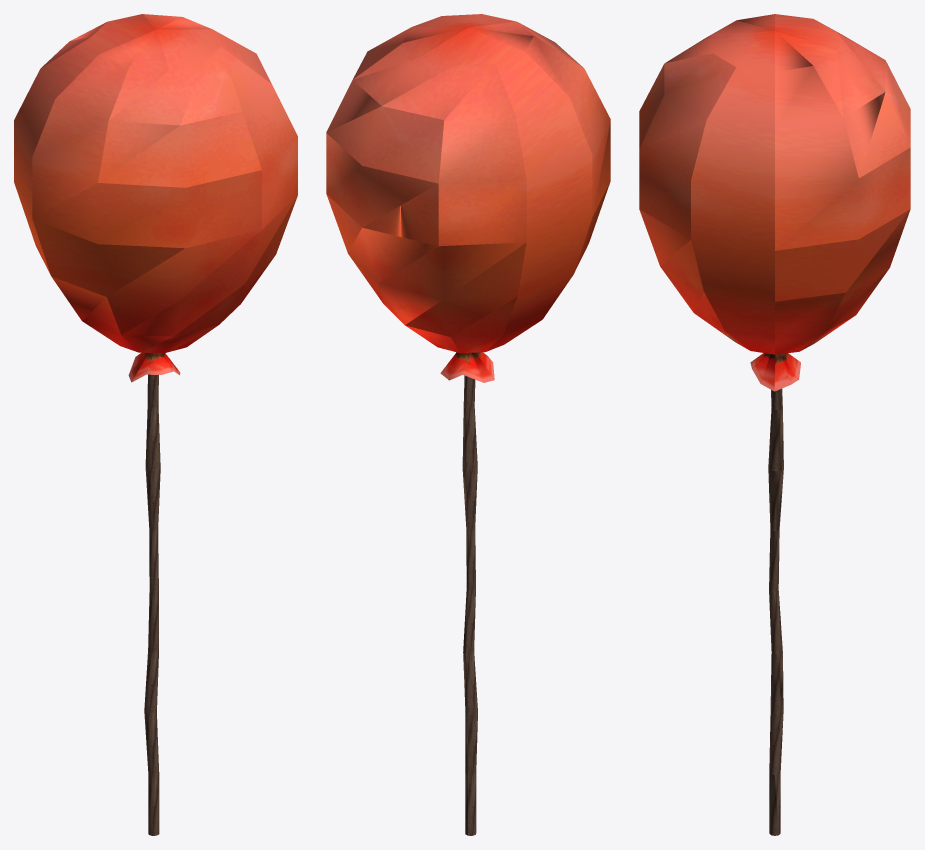
File: SpiritBalloon.obj
The picture shows the model from 3 angles, left to right: view 1: azimuth 30°, elevation 25°; view 2: azimuth 150°, elevation 25°; view 3: azimuth 270°, elevation 25°; orthographic projection.
Visible parts, largest first — view 1: mesh_118, mesh_119; view 2: mesh_118, mesh_119; view 3: mesh_118, mesh_119.
Part boxes in pixels (left/top/right/bottom): mesh_118: left=14, top=14, right=297, bottom=382; mesh_119: left=144, top=374, right=160, bottom=835; mesh_118: left=326, top=14, right=610, bottom=382; mesh_119: left=462, top=375, right=477, bottom=835; mesh_118: left=639, top=14, right=910, bottom=391; mesh_119: left=768, top=388, right=783, bottom=835.
Bounding box in the file's own units: 0.7972 × 2.48 × 0.7582.
Materials: 2 (2 with a texture image).
